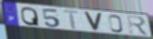0: (109, 15, 125, 33)
5: (41, 8, 62, 29)
Q: (20, 6, 41, 27)
R: (126, 15, 150, 37)
T: (62, 9, 82, 31)
V: (83, 11, 104, 33)
